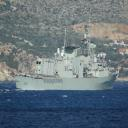Fragata: (15, 11, 121, 93)
